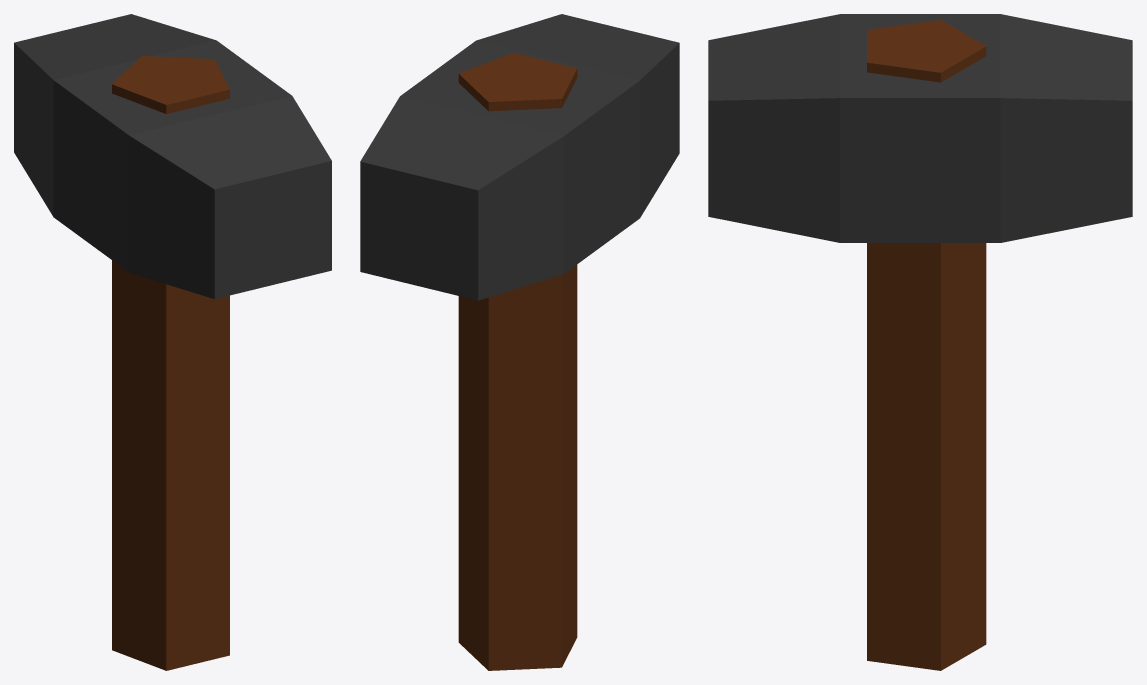
File: Hammer.fbx
The picture shows the model from 3 angles, left to right: view 1: azimuth 30°, elevation 25°; view 2: azimuth 150°, elevation 25°; view 3: azimuth 270°, elevation 25°; orthographic projection. The views are drawn at different scales.
Parts seen in each view (by area): view 1: Cube, Cylinder; view 2: Cube, Cylinder; view 3: Cube, Cylinder.
Boxes of the visible parts, x1,y1,x2,y2 form: Cube: [14, 14, 331, 299]; Cylinder: [112, 56, 229, 670]; Cube: [360, 14, 679, 300]; Cylinder: [458, 53, 577, 670]; Cube: [708, 14, 1132, 242]; Cylinder: [867, 20, 986, 670].
Size of the model in its own units: 30.15 by 100 by 64.25.
